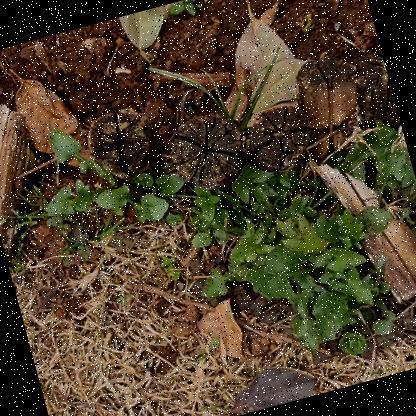Weeds: (23, 39, 415, 415), (165, 0, 212, 23)
